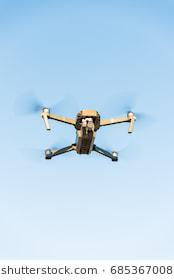drone: (17, 62, 152, 193)
